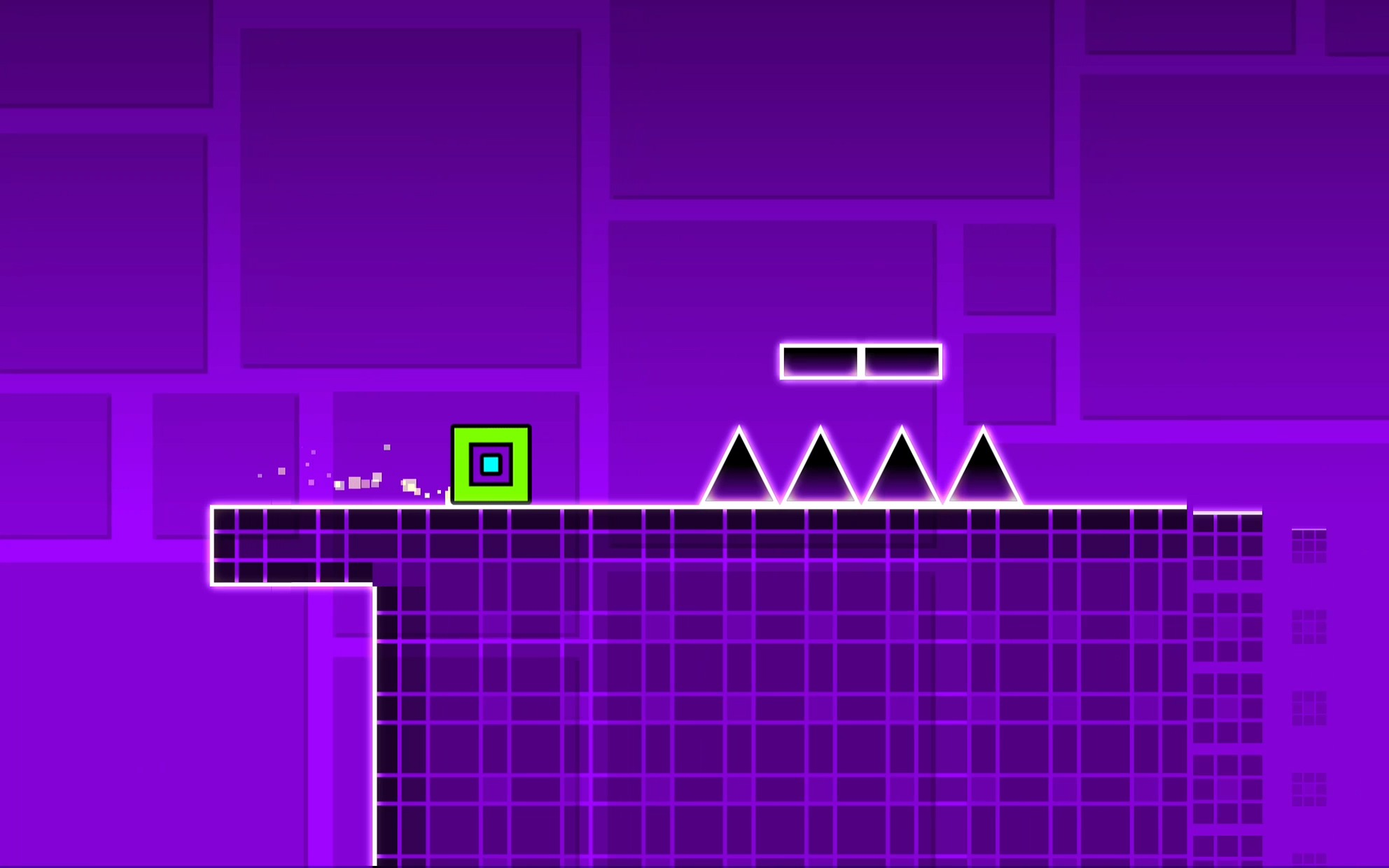Block2: (379, 507, 1293, 868), (209, 505, 377, 583)
Block3: (771, 343, 944, 379)
Player: (449, 425, 530, 503)
Spike: (701, 426, 775, 502), (947, 427, 1021, 503), (867, 426, 937, 500), (786, 426, 856, 500)
